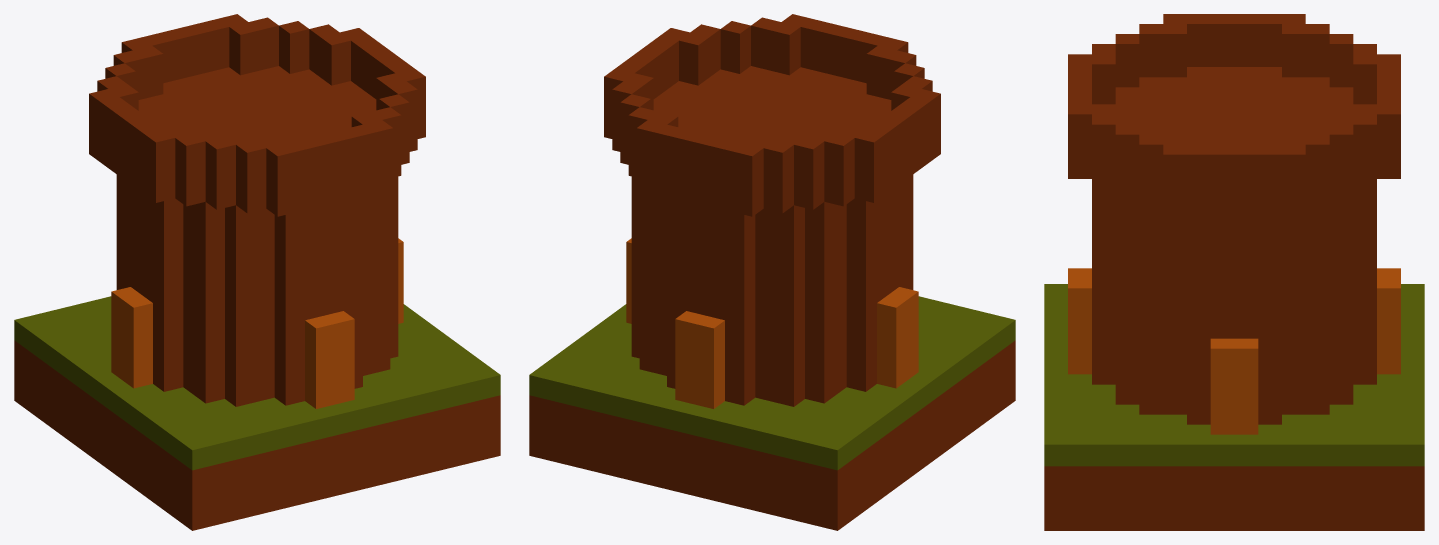
Rendered from tower.gltf.
3 views of the same model, side by side, from view 1: azimuth 30°, elevation 25°; view 2: azimuth 150°, elevation 25°; view 3: azimuth 270°, elevation 25° (orthographic). The views are drawn at different scales.
Visible parts, largest first — view 1: Layer.1; view 2: Layer.1; view 3: Layer.1.
Boxes of the visible parts, box(x1,y1,x2,y2) form: Layer.1: box(14, 14, 500, 530); Layer.1: box(529, 14, 1015, 530); Layer.1: box(1044, 14, 1424, 530).
Bounding box in the file's own units: 16 × 17 × 16.
1 material, 1 textured.
